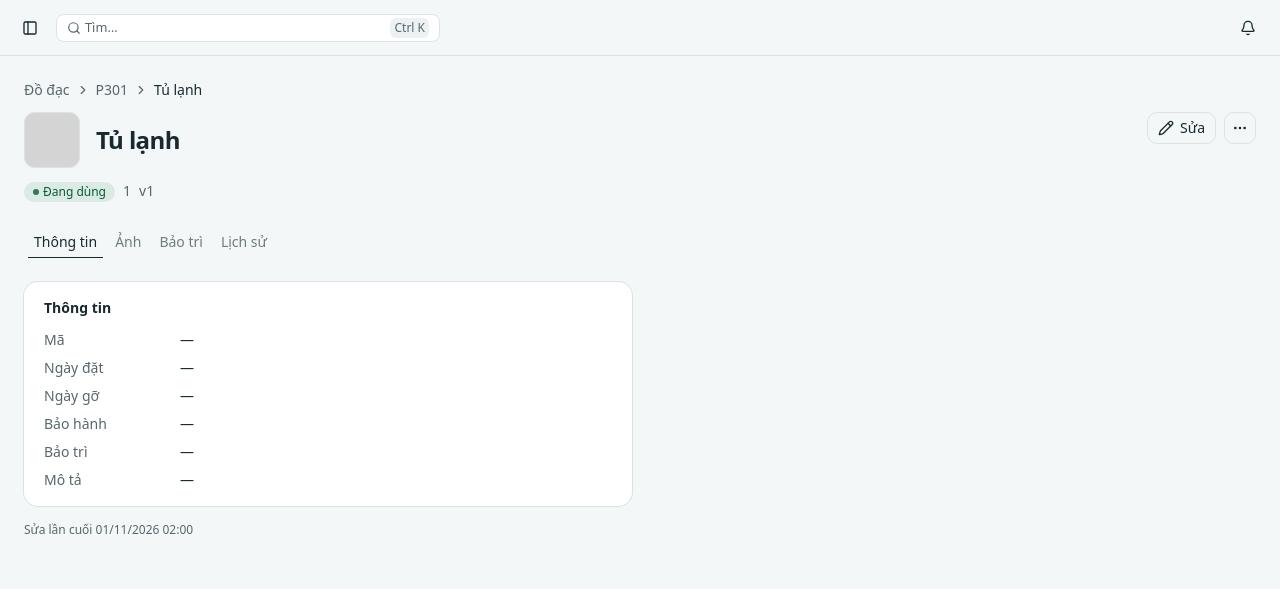
Test case: itemPageShowsItsCover
Click the tab "Ảnh": (128, 242) [108,230,148,254]
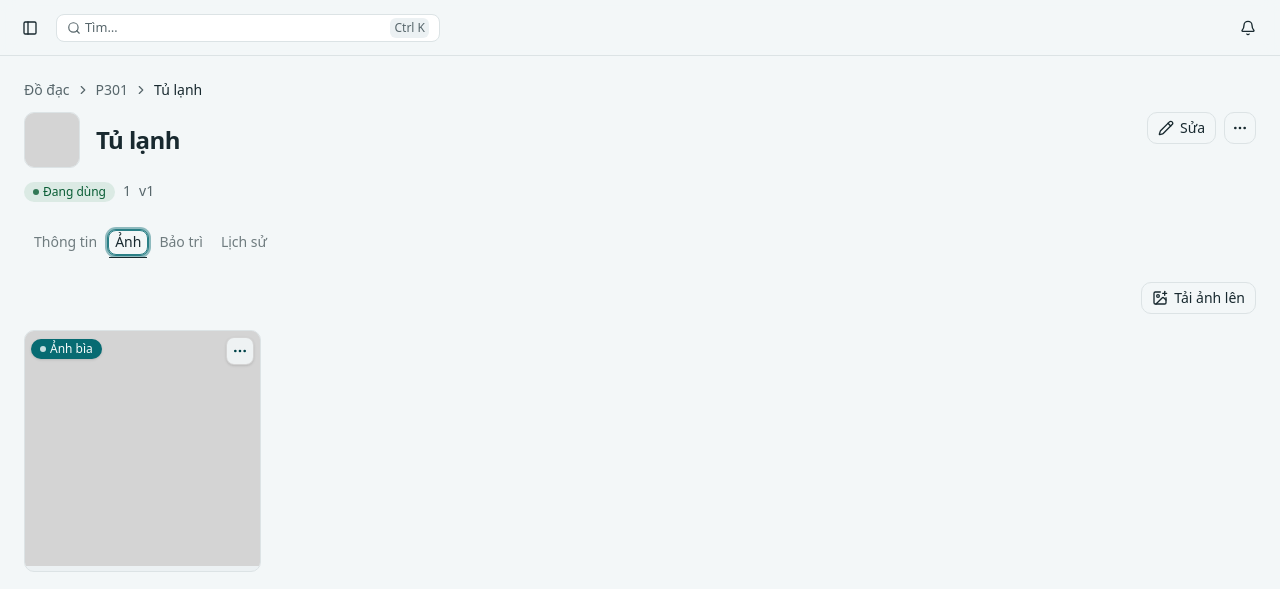
Expected: the text "Ảnh bìa" is shown, [31,339,102,359]
